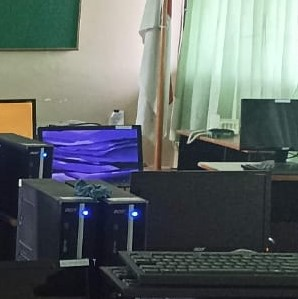monitor: (37, 125, 143, 189), (239, 98, 298, 153)
